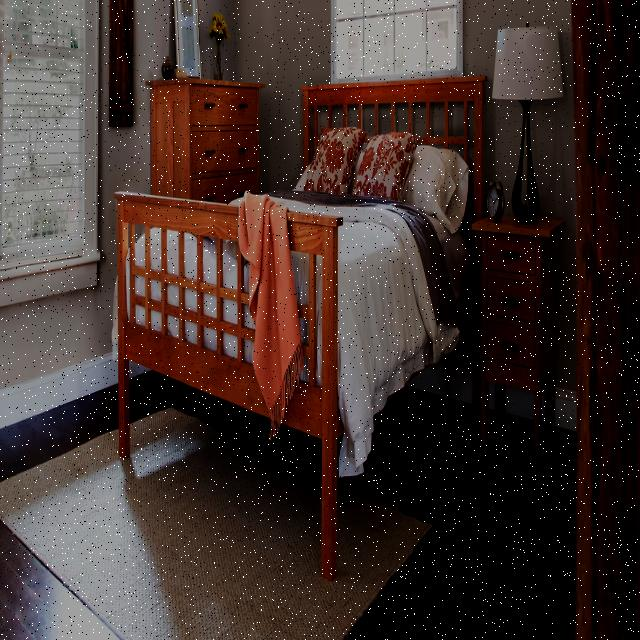bed: (119, 70, 493, 540)
